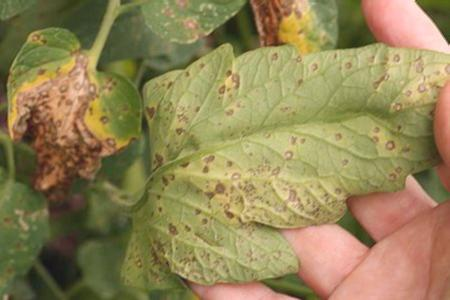Tomato Septoria leaf spot: (120, 44, 448, 296), (5, 28, 128, 185)
